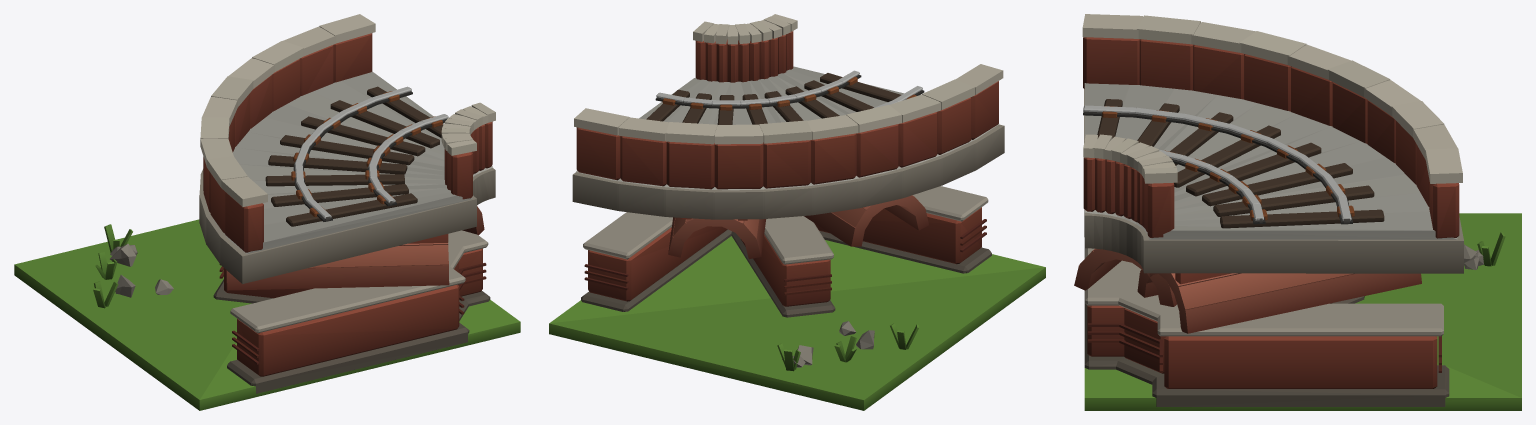
The model's file is track-viaduct-curve-tile.glb.
3 renders of one model, left to right at view 1: azimuth 30°, elevation 25°; view 2: azimuth 150°, elevation 25°; view 3: azimuth 270°, elevation 25°, orthographic. The views are drawn at different scales.
Parts seen in each view (by area): view 1: track_viaduct_curve_tile; view 2: track_viaduct_curve_tile; view 3: track_viaduct_curve_tile.
Part boxes in pixels (left/top/right/bottom): track_viaduct_curve_tile: left=14, top=14, right=520, bottom=410; track_viaduct_curve_tile: left=549, top=14, right=1045, bottom=410; track_viaduct_curve_tile: left=1074, top=14, right=1521, bottom=410.
Bounding box in the file's own units: 4.1 × 2.4 × 4.1.
